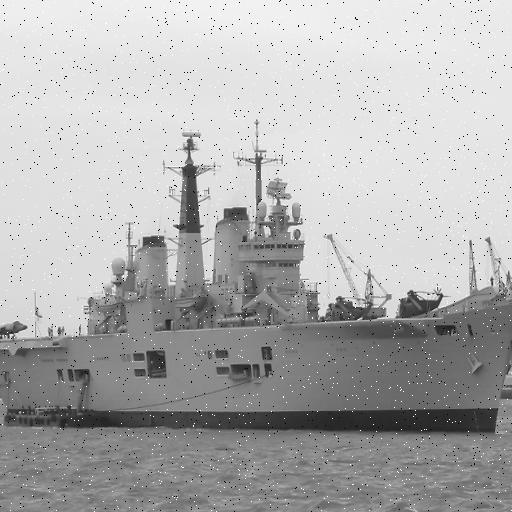Portanaves: (1, 112, 512, 443)
